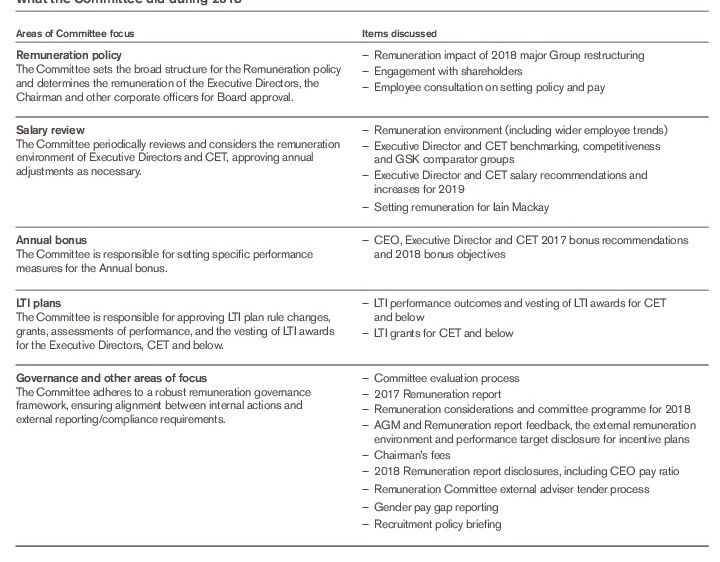table: (0, 0, 720, 562)
